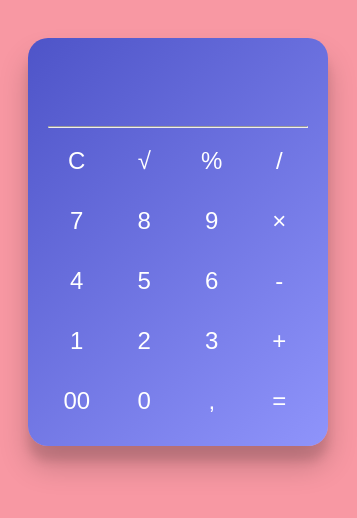
Test: Calculator › handles multiple operations correctly
Step 1. Click the button "1" → [77, 341], box 48,316 -> 106,366
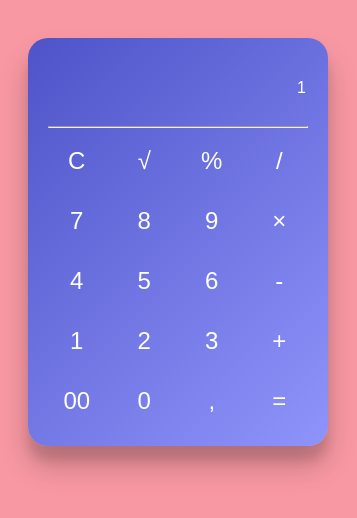
Step 2. Click the button "+" → [279, 341], box 250,316 -> 308,366
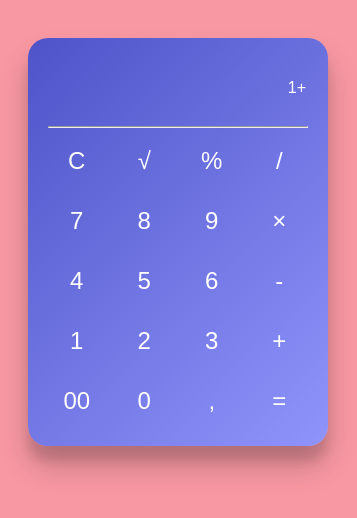
Step 3. Click the button "2" → [144, 341], box 116,316 -> 173,366
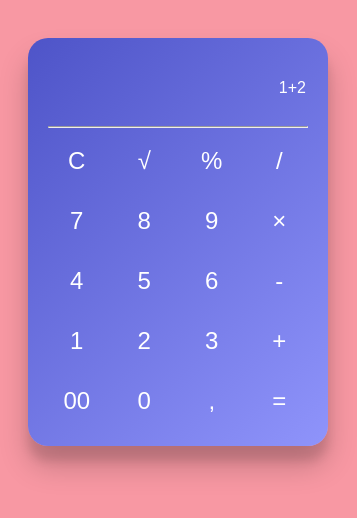
Step 4. Click the button "×" → [279, 221], box 250,196 -> 308,246
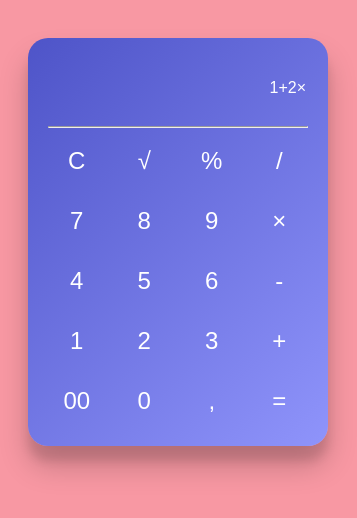
Step 5. Click the button "3" → [212, 341], box 183,316 -> 240,366
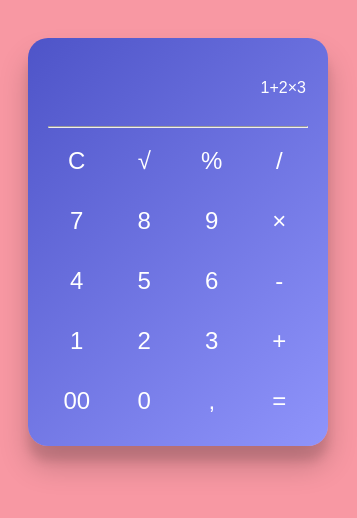
Step 6. Click the button "=" → [279, 401], box 250,376 -> 308,426
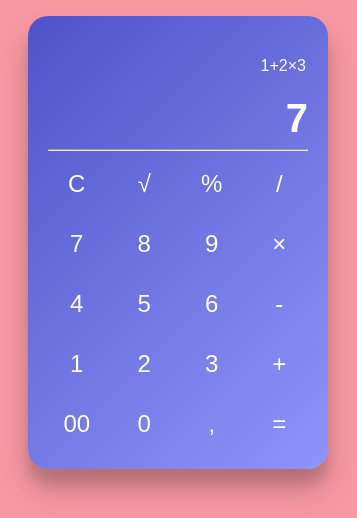
Check: the text with test id "result" reads "7", box 286,96 -> 308,140
